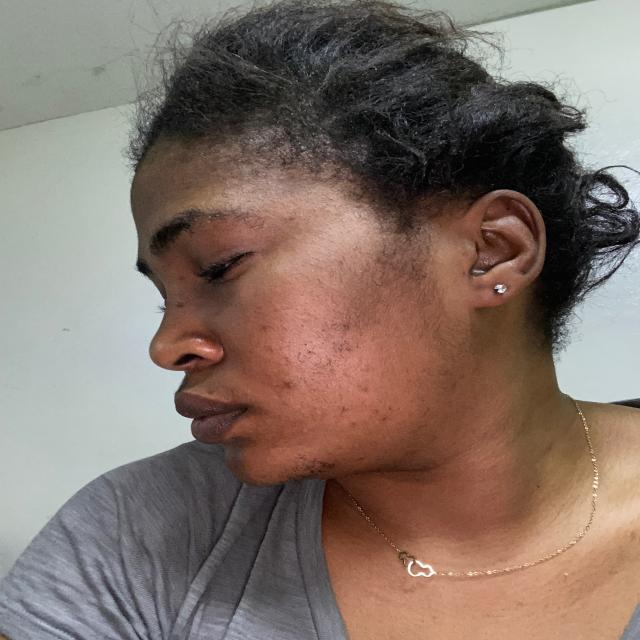Acne: (371, 408, 389, 424), (282, 380, 296, 390), (174, 300, 187, 310), (204, 388, 216, 396), (260, 324, 270, 333)
Blackheads: (285, 335, 357, 361), (304, 196, 352, 234), (290, 293, 322, 329)
